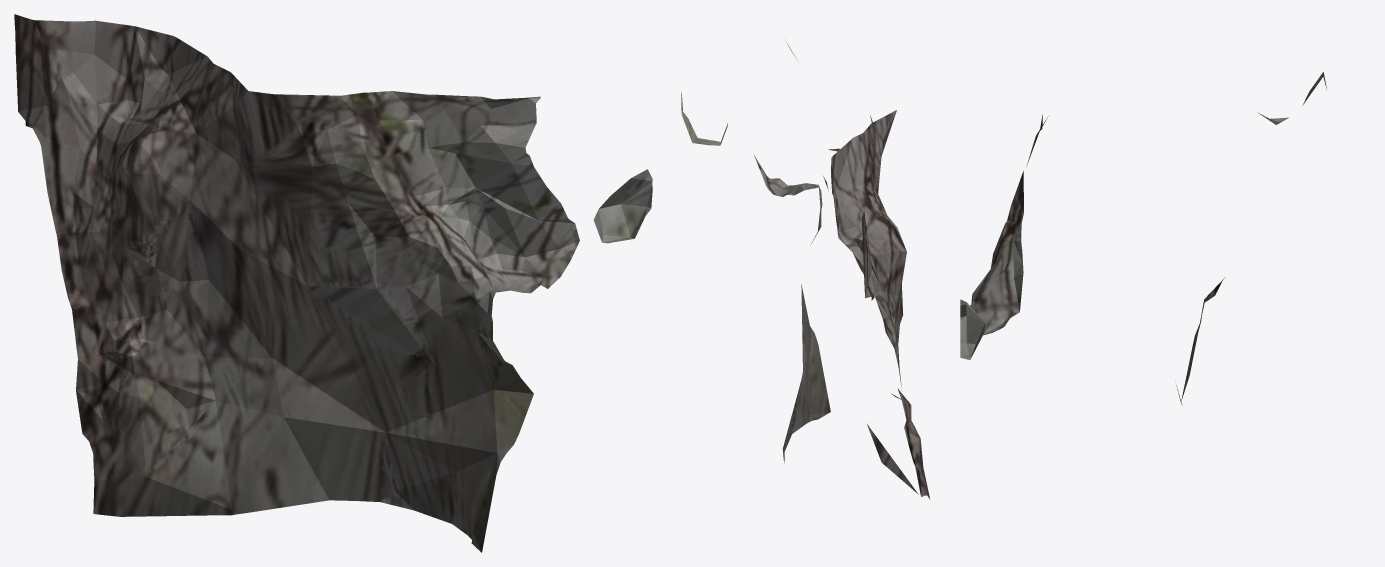
3 views of the same model, side by side, from view 1: azimuth 30°, elevation 25°; view 2: azimuth 150°, elevation 25°; view 3: azimuth 270°, elevation 25° (orthographic). The views are drawn at different scales.
Size of the model in its own units: 0.8374 by 0.8373 by 0.7428.
3 materials, 3 textured.
